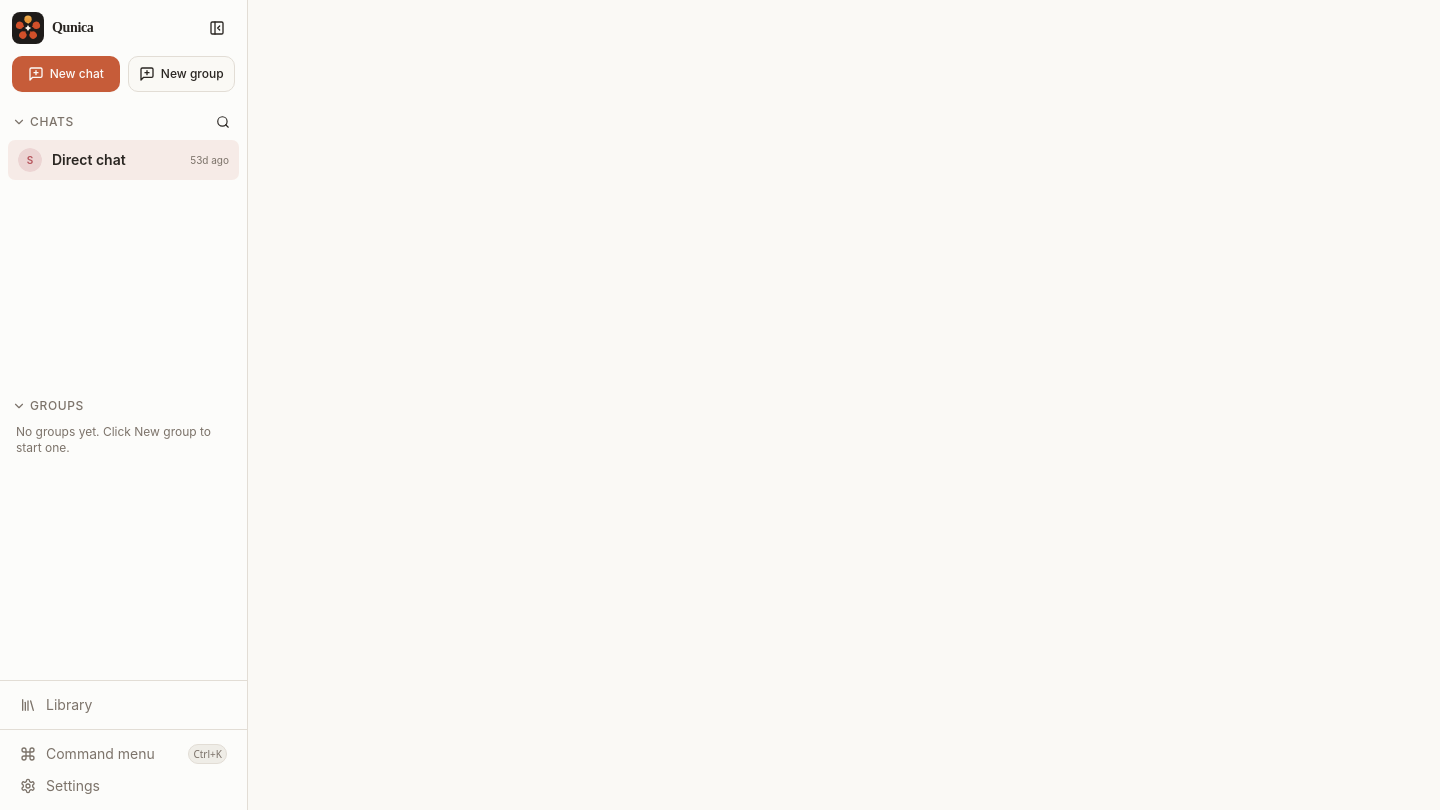
AppSidebar terminal cleanup › does not clean terminal state when backend deletion fails
Right-click the link "S Direct chat 53d ago" at (124, 160), box [8,140,239,180]
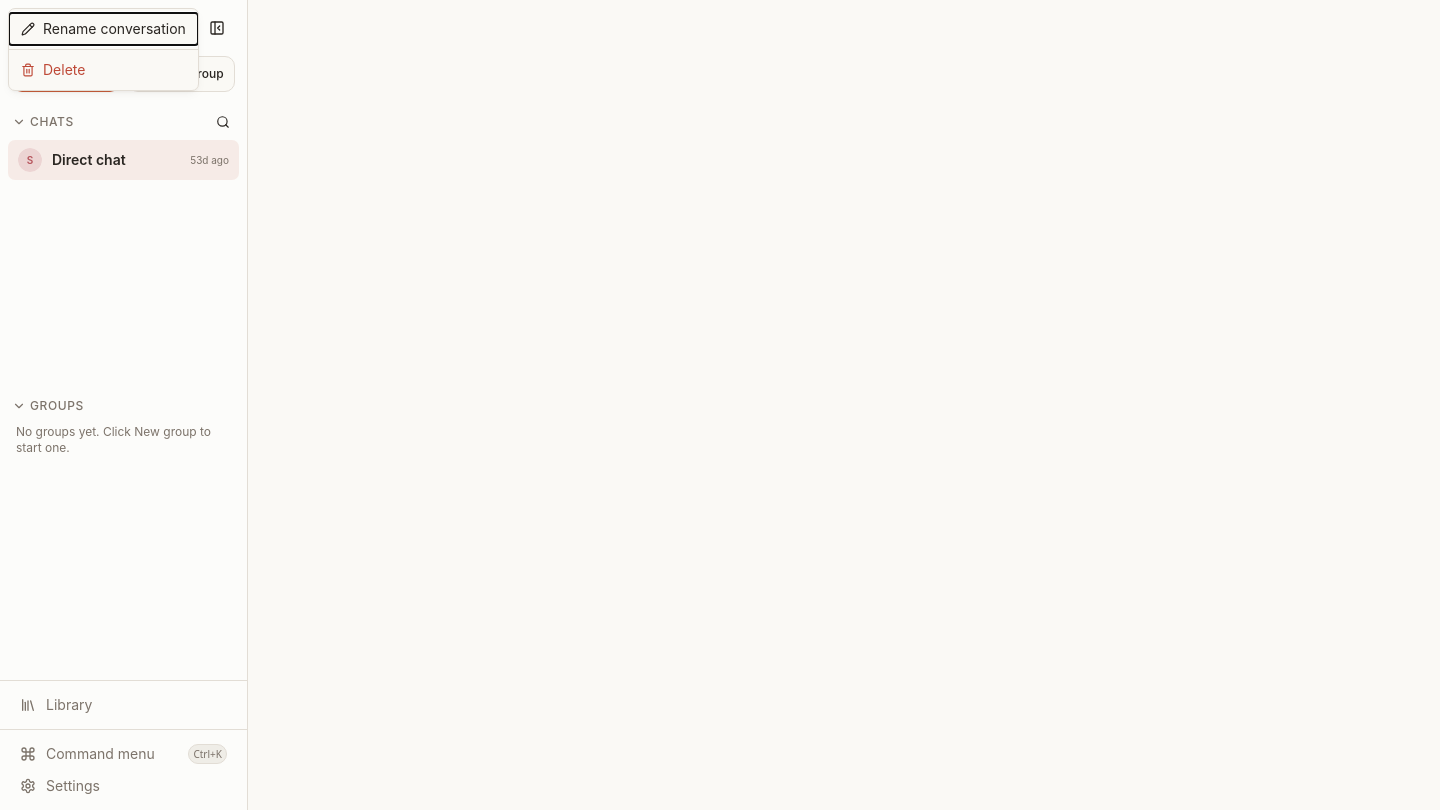
Click the menu item "Delete" at (103, 70), box [9,54,198,86]
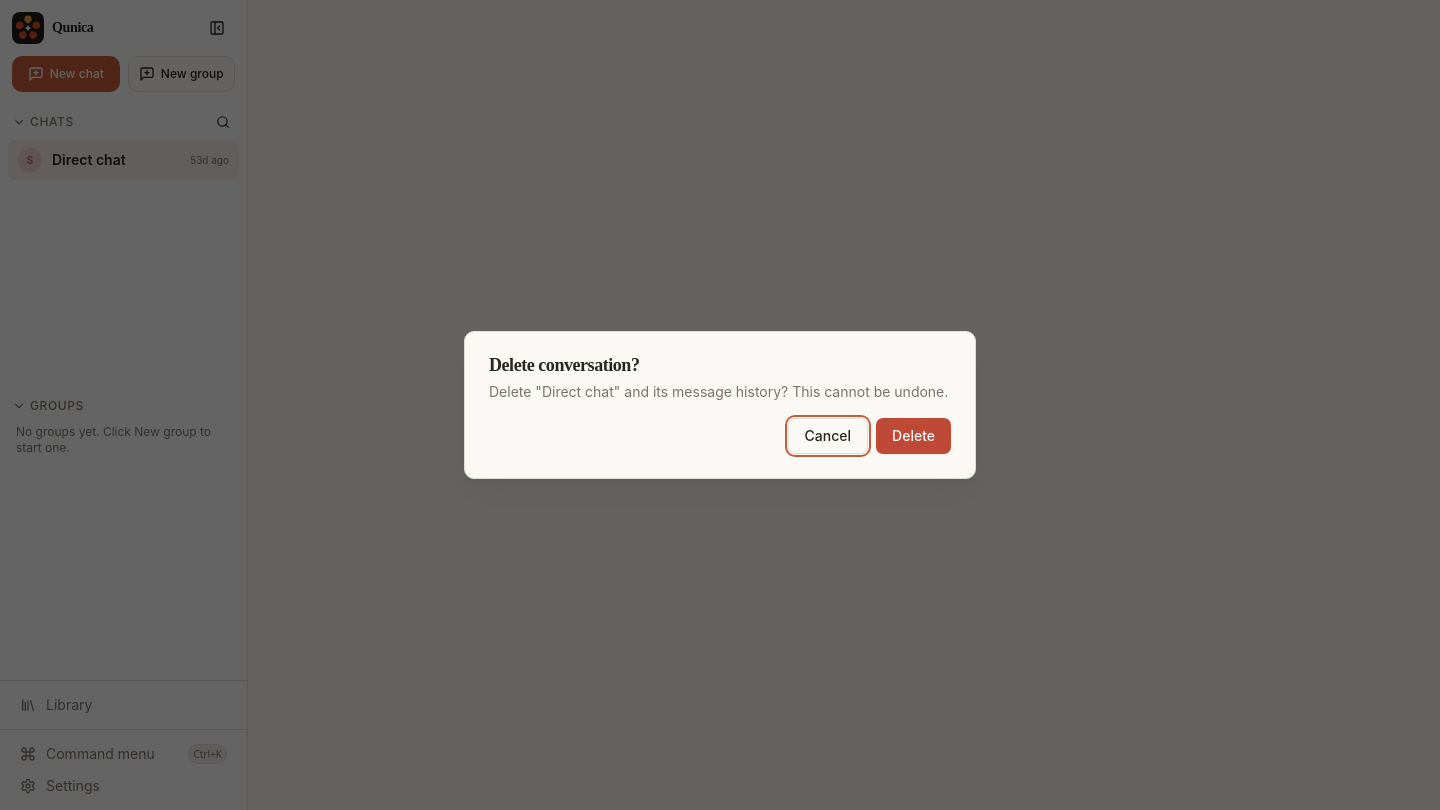
Click the button "Delete" at (914, 436), box [876,418,951,454]
(page scrolled)
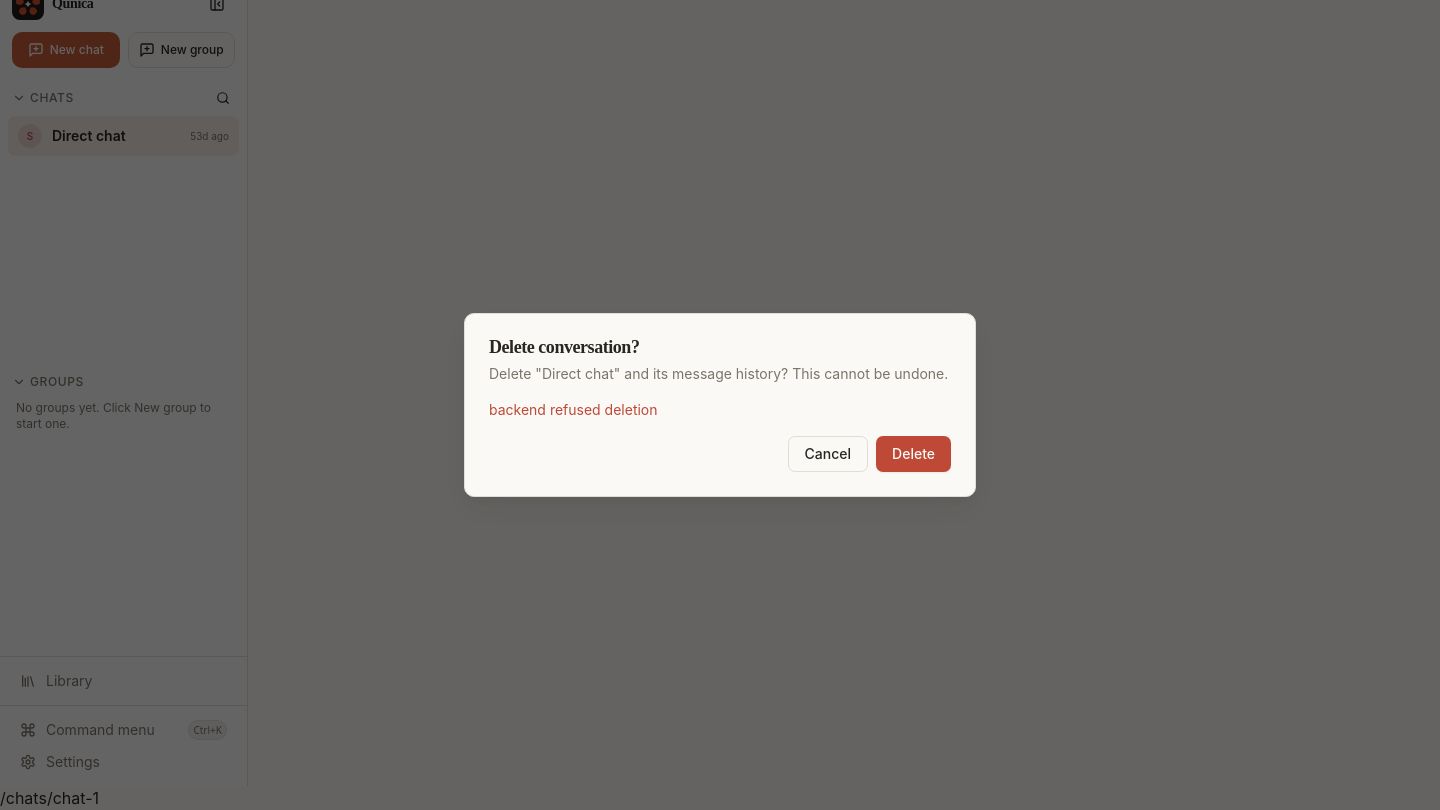
Expected: the text with test id "location" reads "/chats/chat-1", [0,788,99,808]
Now the message reads "backend refused deletion", box [489,401,658,418]
